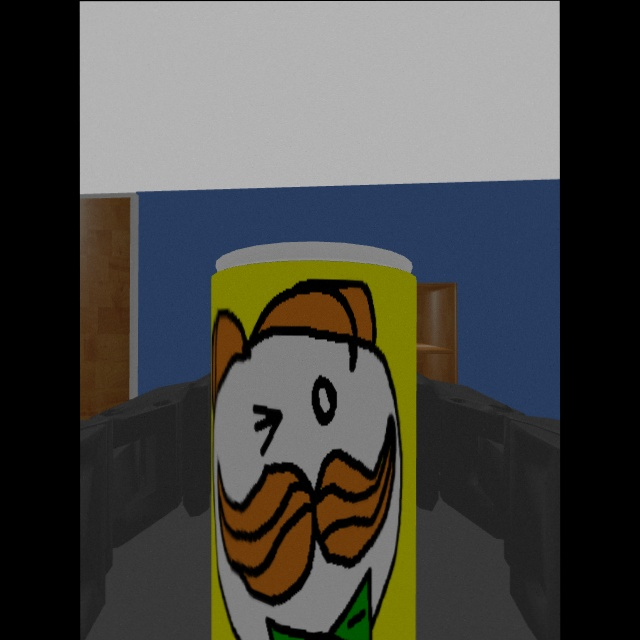chipsdose_gelb: (211, 241, 417, 640)
